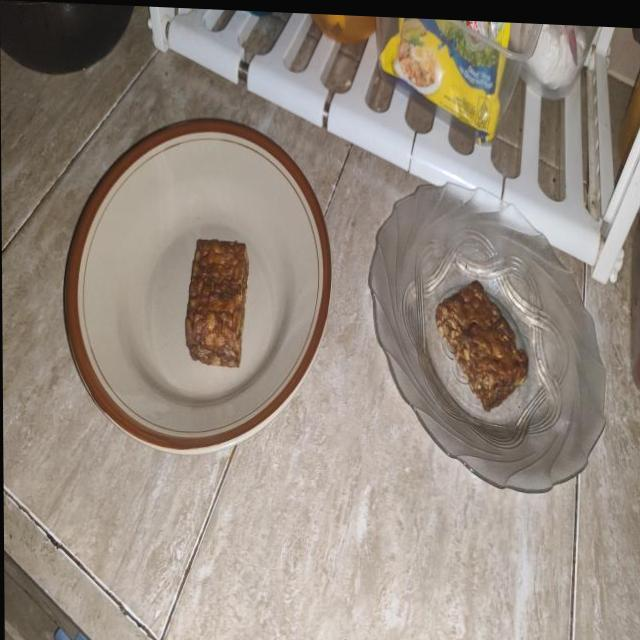tempe_goreng: (436, 282, 528, 412), (186, 240, 248, 368)
